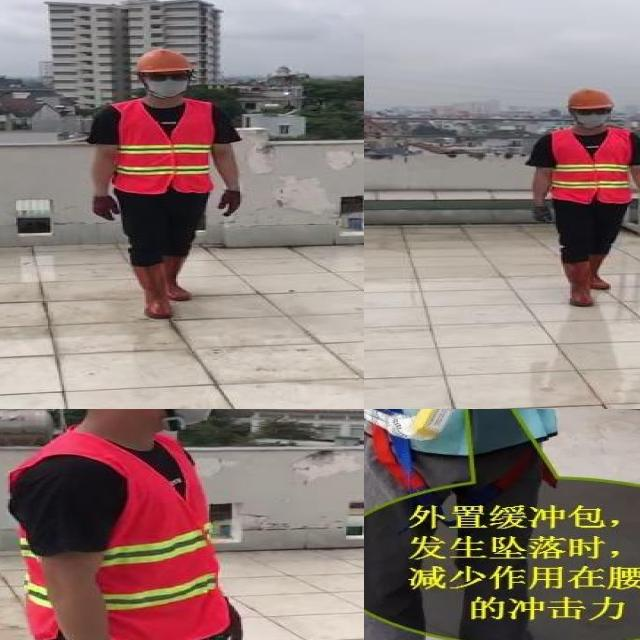boots: (137, 266, 172, 321), (561, 257, 595, 307), (162, 256, 190, 302), (588, 251, 616, 290)
face_mask: (142, 409, 225, 429), (145, 70, 191, 98), (571, 107, 612, 127)
glasses: (143, 70, 195, 84), (571, 106, 614, 118)
hand_glove: (92, 193, 121, 221), (217, 188, 242, 216), (531, 203, 552, 226)
head_helmet: (131, 49, 193, 74), (560, 88, 621, 111)
person: (0, 409, 251, 640), (83, 46, 250, 326), (525, 84, 640, 309)
vest: (17, 437, 228, 640), (109, 98, 214, 194), (550, 129, 630, 202)
